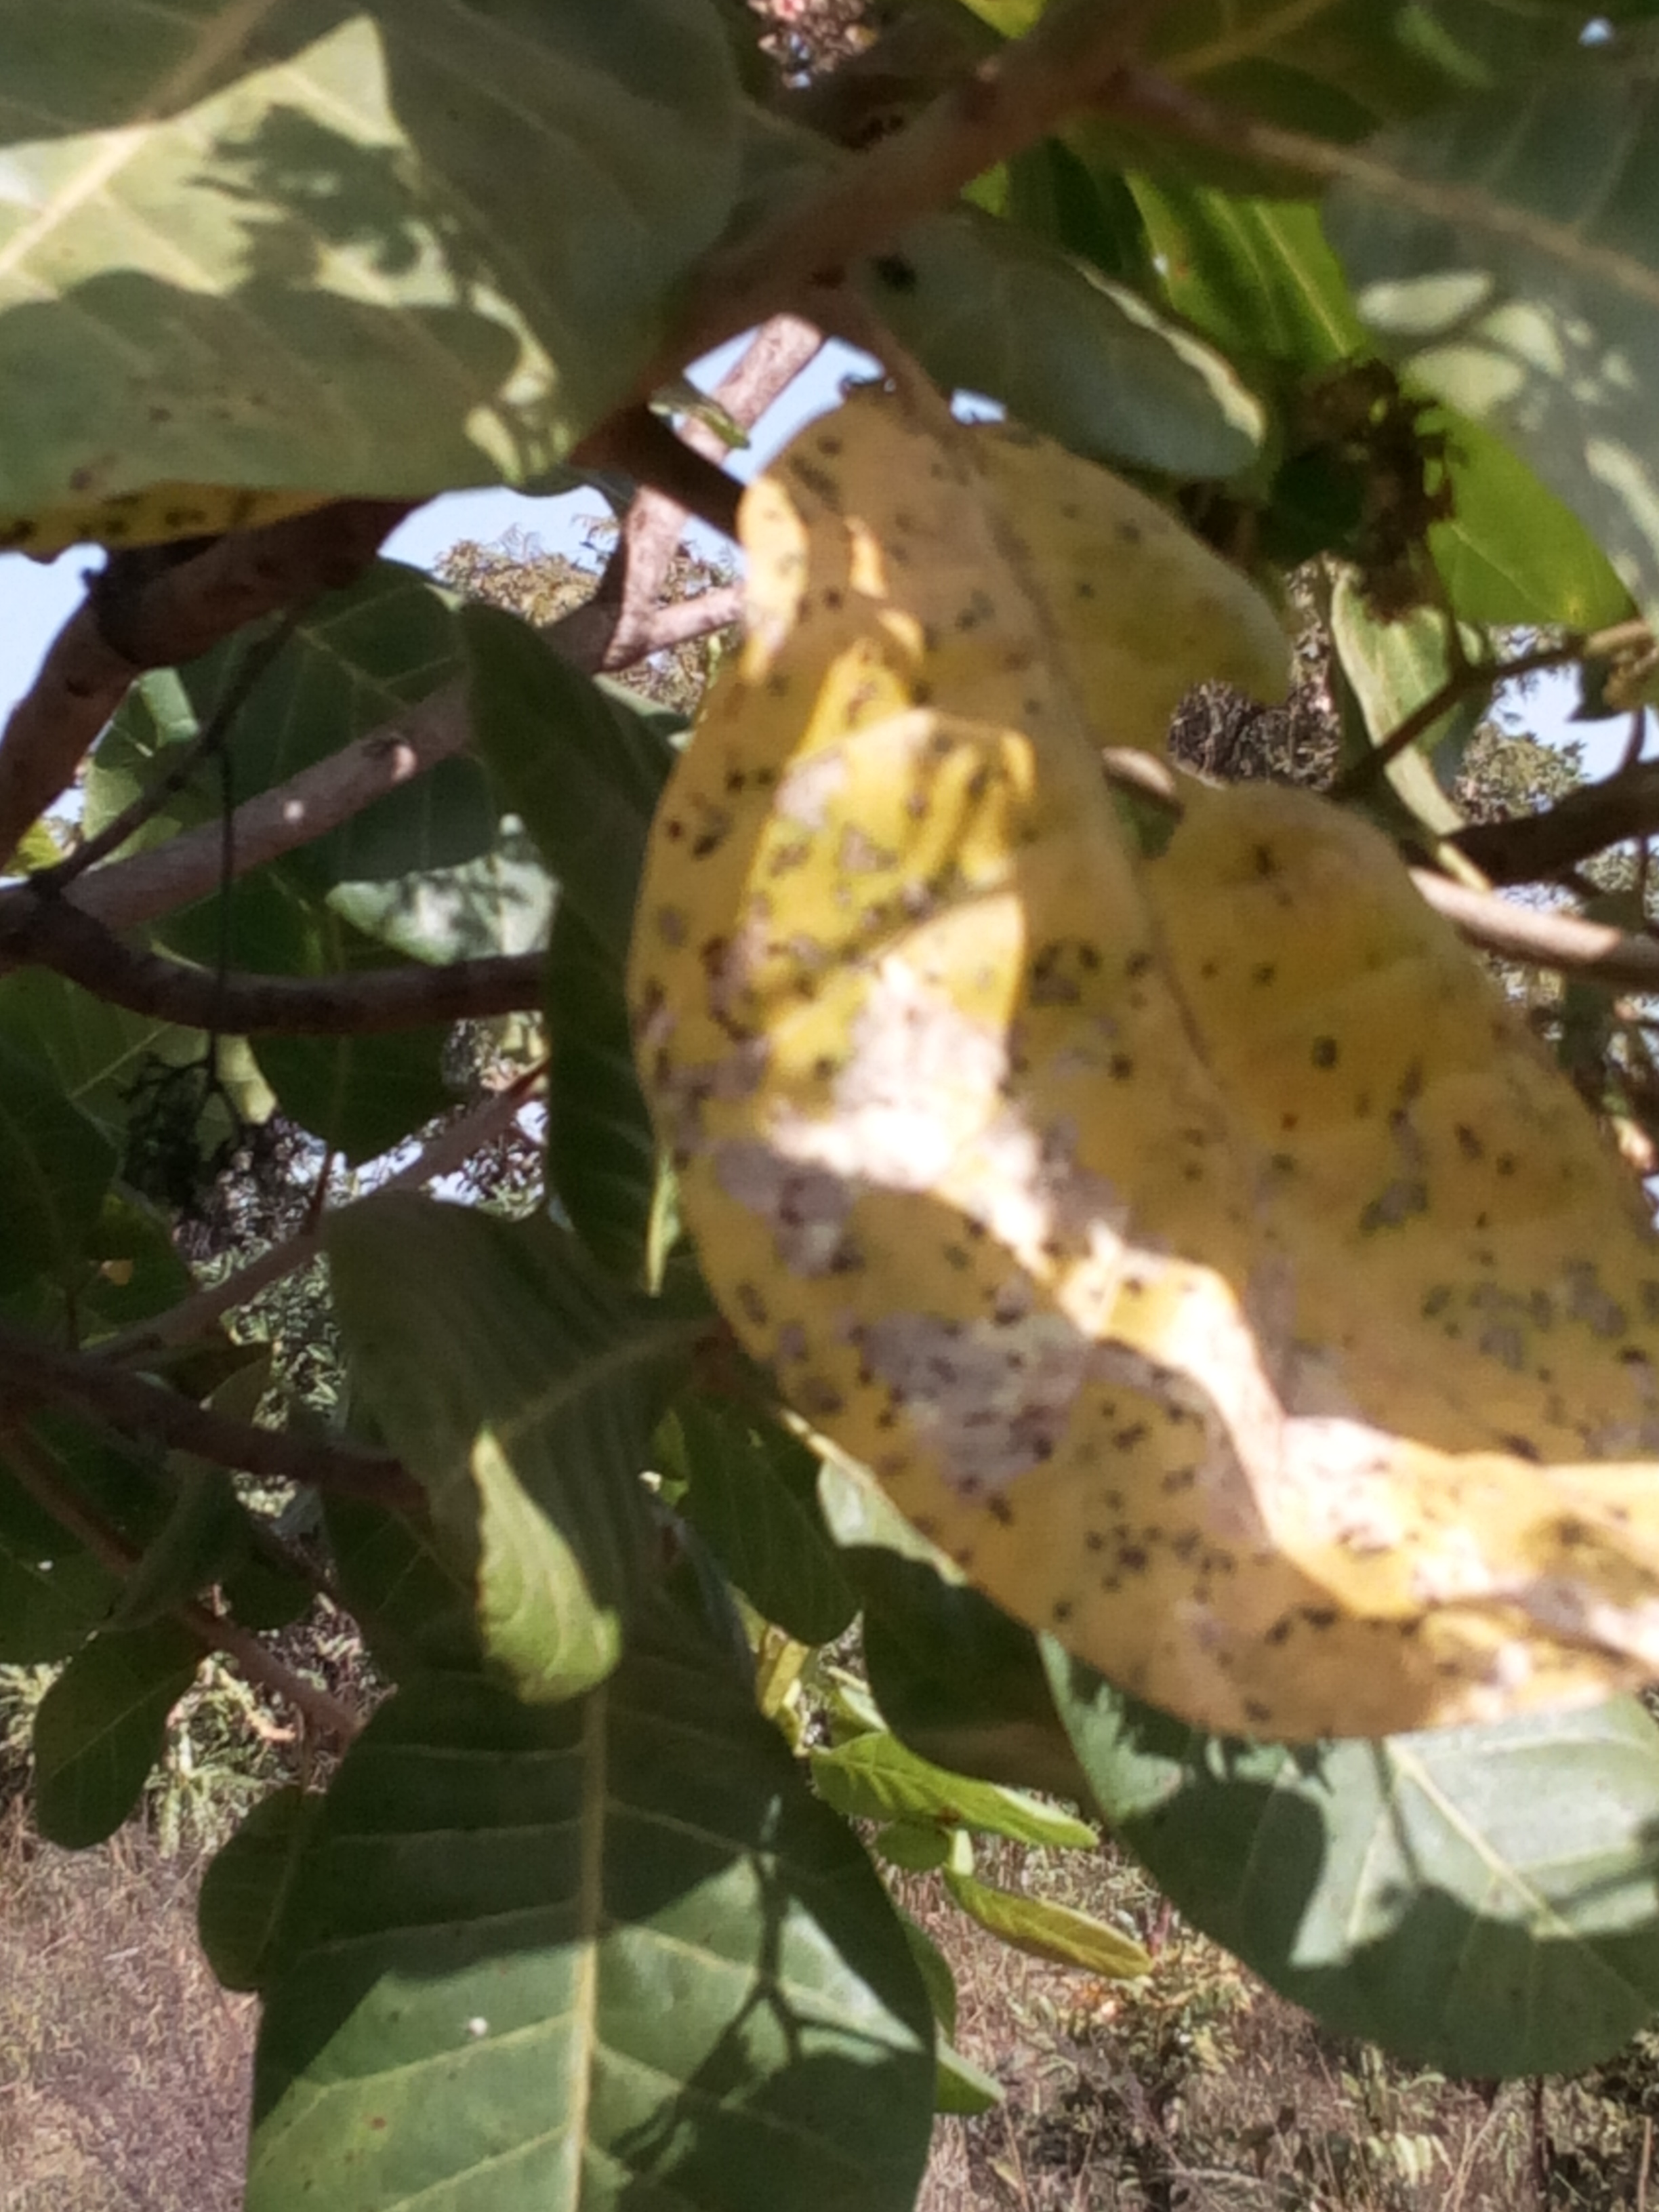Pestalotiose: (671, 455, 1652, 1730)
